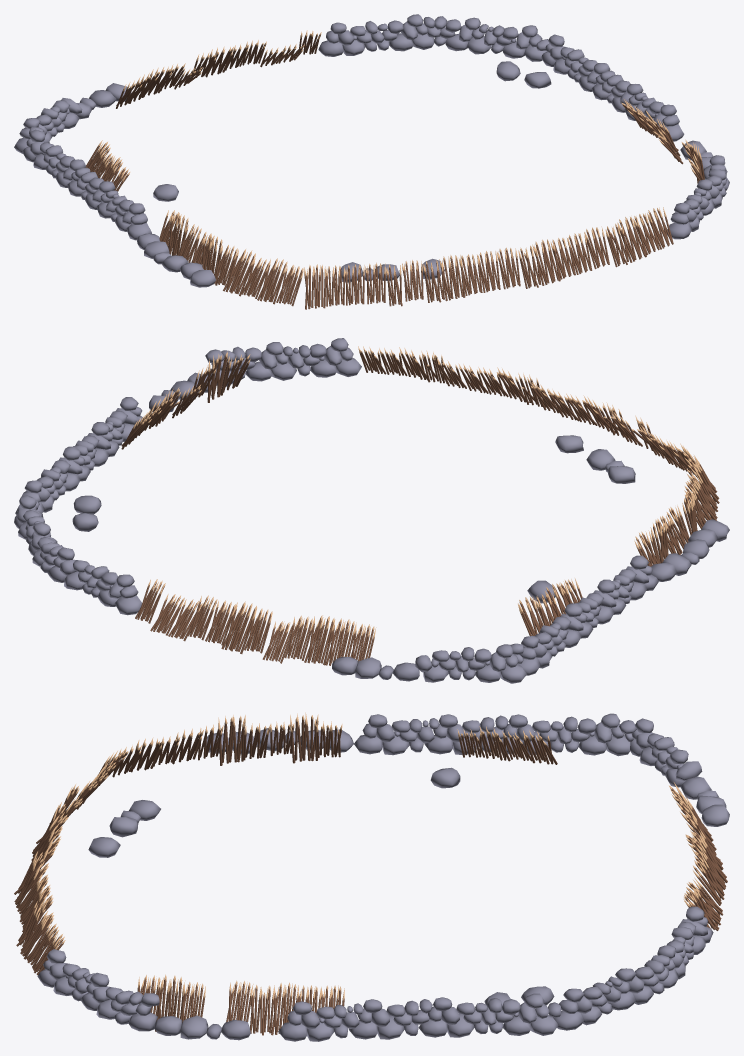
Rendered from BOSSFIGHT.fbx.
3 renders of one model, top to bottom at view 1: azimuth 30°, elevation 25°; view 2: azimuth 150°, elevation 25°; view 3: azimuth 270°, elevation 25°, orthographic. The views are drawn at different scales.
Visible parts, largest first — view 1: Cube.061; view 2: Cube.061; view 3: Cube.061.
Part boxes in pixels (x1=…): Cube.061: x1=14, y1=14, x2=729, y2=309; Cube.061: x1=14, y1=338, x2=729, y2=683; Cube.061: x1=14, y1=712, x2=729, y2=1041.
Size of the model in its own units: 3694 by 299 by 3681.
